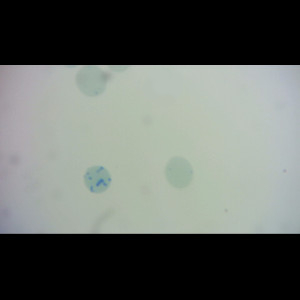aggregate reticulocyte: (81, 164, 113, 194)
punctate reticulocyte: (163, 154, 196, 190), (74, 65, 109, 98)
